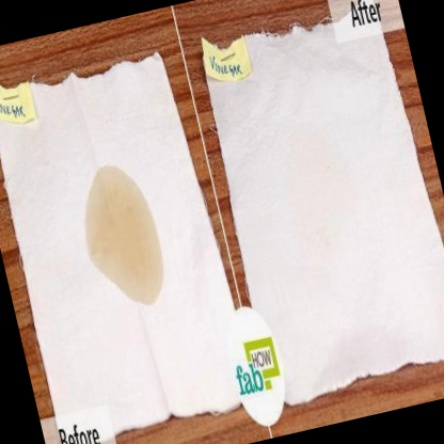coffee: (81, 170, 164, 286)
